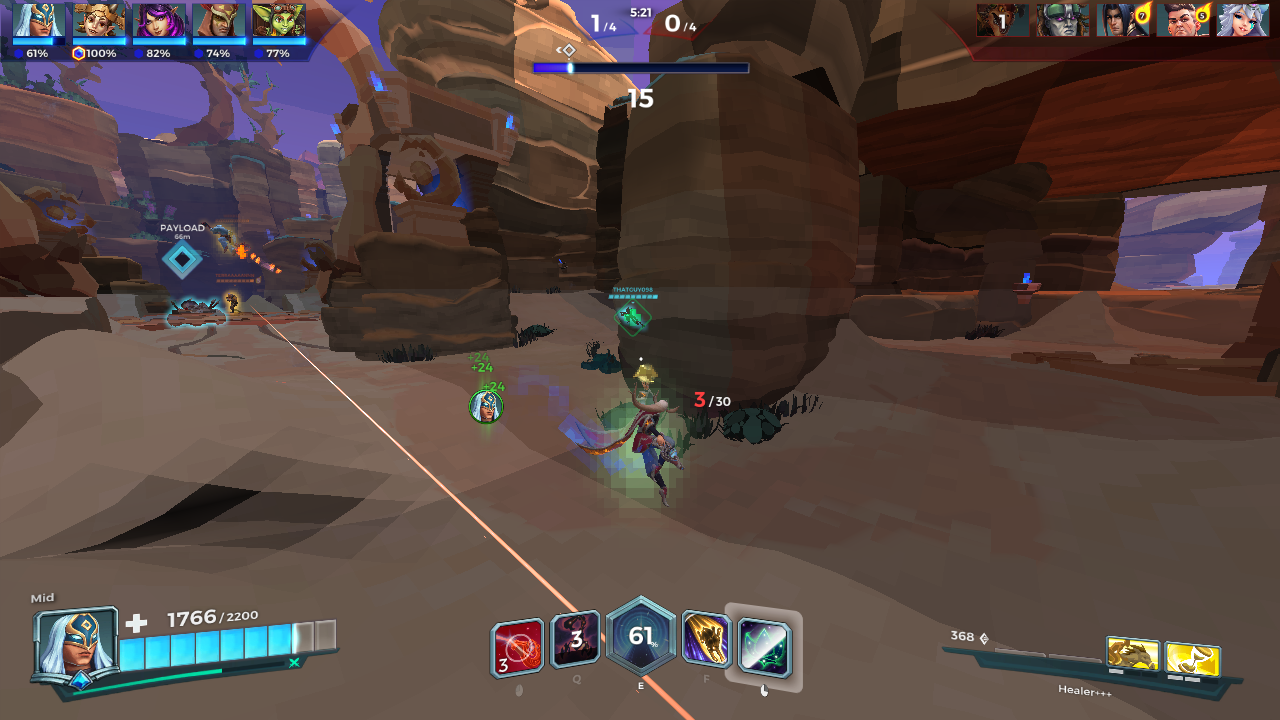model: (207, 222, 237, 253), (222, 288, 240, 312)
